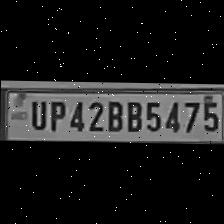2: (84, 97, 104, 132)
4: (64, 98, 86, 132), (162, 97, 180, 132)
5: (198, 98, 220, 133), (142, 97, 162, 132)
7: (179, 98, 199, 133)
B: (122, 96, 142, 132), (103, 97, 123, 132)
P: (44, 97, 66, 131)
U: (26, 97, 46, 130)
